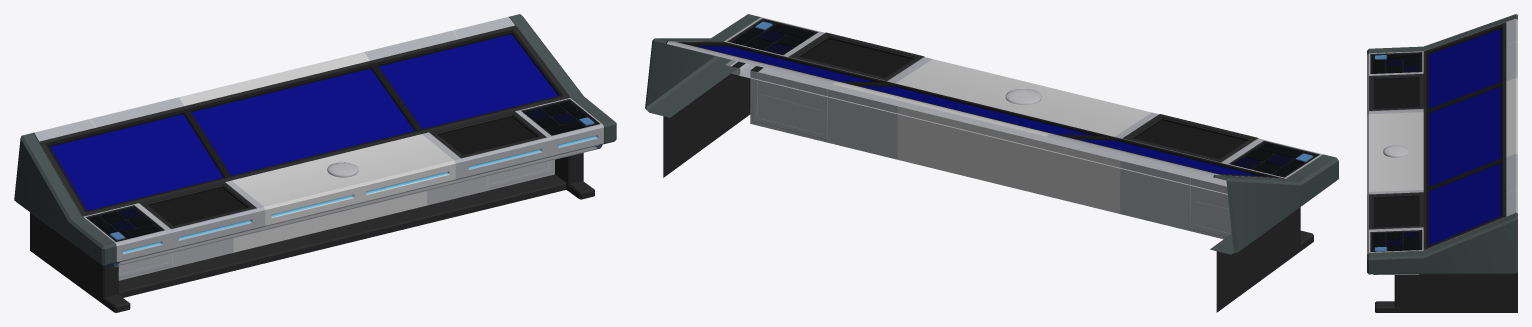
The model's file is ML_mainconsole.fbx.
3 renders of one model, left to right at view 1: azimuth 30°, elevation 25°; view 2: azimuth 150°, elevation 25°; view 3: azimuth 270°, elevation 25°, orthographic. The views are drawn at different scales.
Parts seen in each view (by area): view 1: Object013; view 2: Object013; view 3: Object013.
Part boxes in pixels (left/top/right/bottom): Object013: left=14, top=14, right=616, bottom=312; Object013: left=645, top=14, right=1338, bottom=312; Object013: left=1367, top=14, right=1517, bottom=312.
Bounding box in the file's own units: 659 × 145 × 200.
